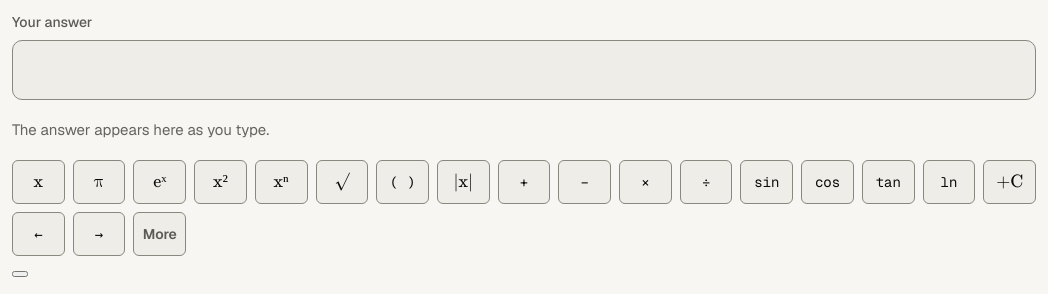
AnswerInput formula editor › treats an empty box as unfinished, not wrong
Clear the element named "Your answer" at (524, 70), box left=12, top=40, right=1036, bottom=100
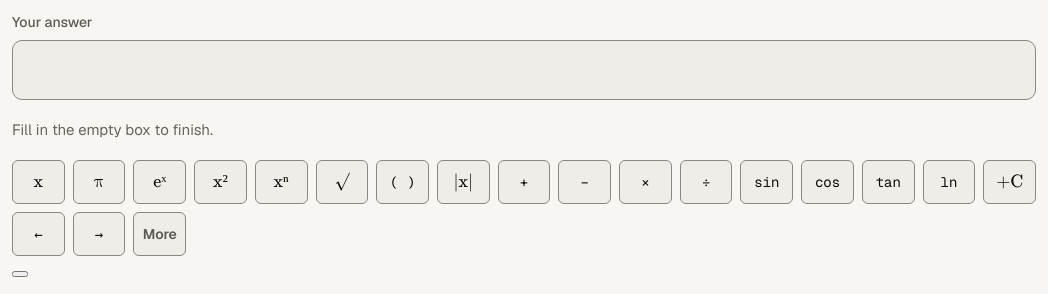
Result: the text "Fill in the empty box to finish." is shown at left=12, top=120, right=213, bottom=139
